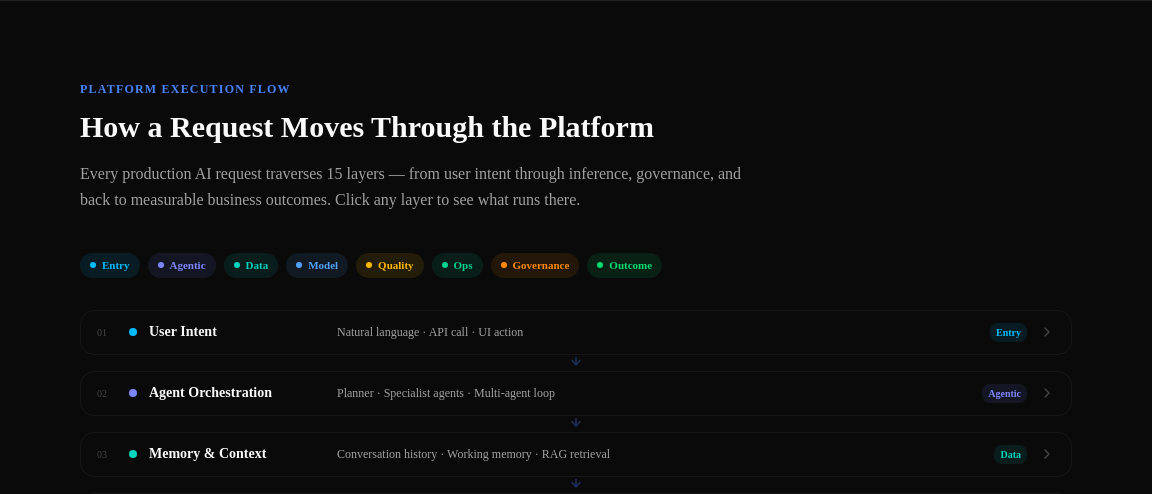
Test: AIArchitecture › clicking a layer expands its detail panel
The width and height of the screenshot is (1152, 494).
Click the button "01 User Intent Natural language · API call · UI action Entry" at (183,332), box [81,310,1071,354]
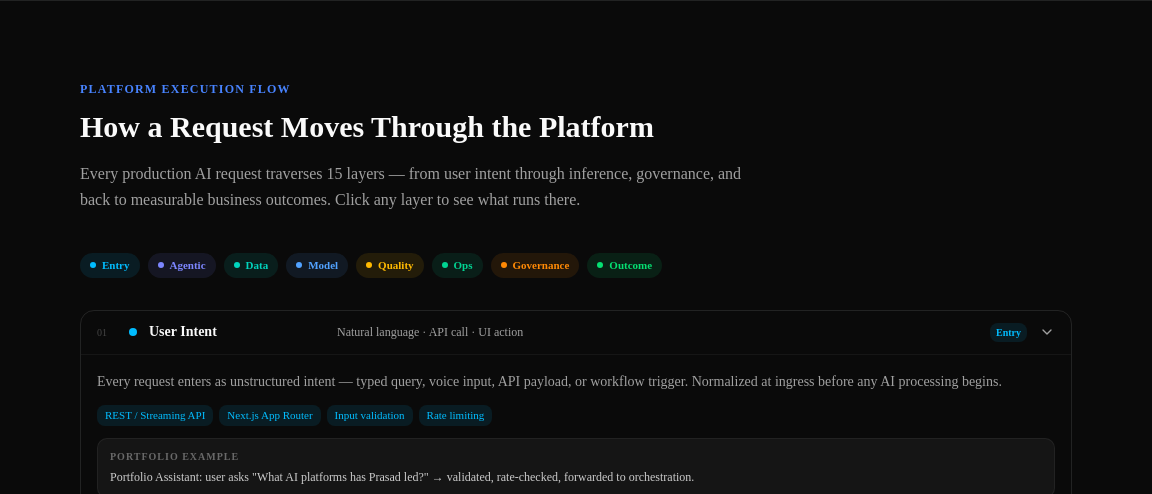
Expected: the text "Every request enters as unstructured intent" is shown, [97,374,1002,388]
Expected: the button "01 User Intent Natural language · API call · UI action Entry" is expanded, [81,310,1071,354]
